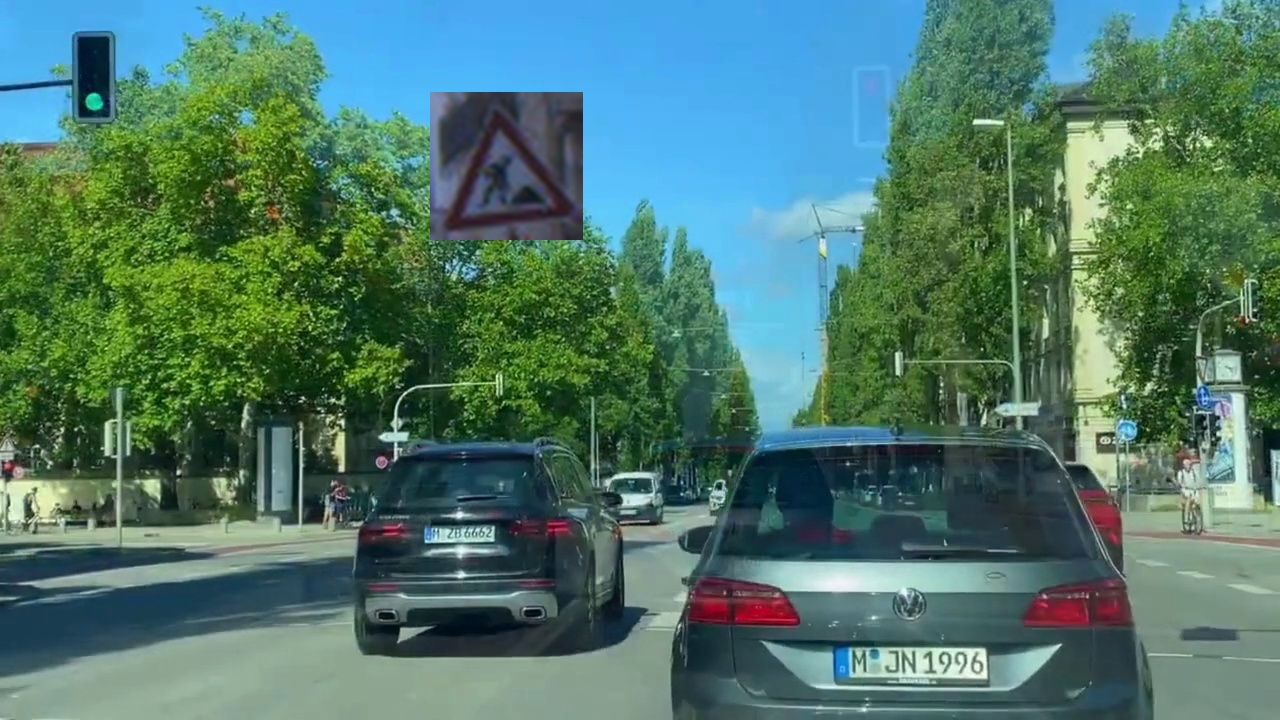Road work: (430, 92, 583, 240)
